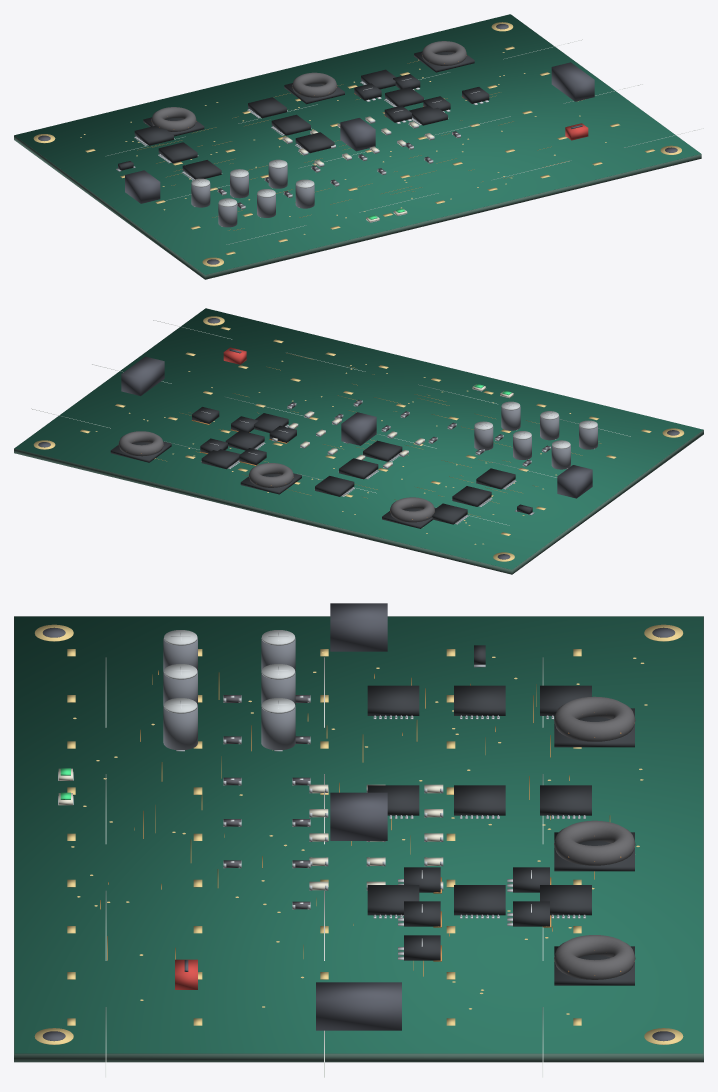
The model's file is L98_COMPLETE_BOARD_VISUAL_REFERENCE_ONLY.fbx.
The picture shows the model from 3 angles, top to bottom: view 1: azimuth 30°, elevation 25°; view 2: azimuth 150°, elevation 25°; view 3: azimuth 270°, elevation 25°; orthographic projection. The views are drawn at different scales.
Parts seen in each view (by area): view 1: Model::Part_583, Model::Part_582, Model::Part_554, Model::Part_536, Model::Part_545, Model::Part_367, Model::Part_389, Model::Part_345, Model::Part_105, Model::Part_140, Model::Part_245, Model::Part_035 (+9 smaller); view 2: Model::Part_583, Model::Part_582, Model::Part_554, Model::Part_545, Model::Part_536, Model::Part_345, Model::Part_389, Model::Part_367, Model::Part_105, Model::Part_000, Model::Part_245, Model::Part_140 (+7 smaller); view 3: Model::Part_583, Model::Part_582, Model::Part_554, Model::Part_367, Model::Part_345, Model::Part_389, Model::Part_536, Model::Part_545, Model::Part_000, Model::Part_105, Model::Part_140, Model::Part_245 (+19 smaller).
Part boxes in pixels (x1,y1,x2,y2): Model::Part_583: (15, 14, 700, 274); Model::Part_582: (14, 15, 701, 279); Model::Part_554: (551, 62, 594, 101); Model::Part_536: (125, 170, 160, 203); Model::Part_545: (340, 118, 375, 151); Model::Part_367: (292, 72, 337, 97); Model::Part_389: (421, 41, 466, 65); Model::Part_345: (151, 107, 196, 131); Model::Part_105: (158, 142, 197, 163); Model::Part_140: (271, 114, 310, 135); Model::Part_245: (248, 97, 286, 118); Model::Part_035: (295, 132, 334, 153); Model::Part_583: (14, 308, 703, 569); Model::Part_582: (14, 309, 703, 574); Model::Part_554: (121, 356, 164, 395); Model::Part_545: (341, 412, 376, 445); Model::Part_536: (557, 465, 592, 498); Model::Part_345: (390, 497, 434, 522); Model::Part_389: (118, 431, 163, 456); Model::Part_367: (248, 463, 293, 487); Model::Part_105: (452, 486, 491, 506); Model::Part_000: (476, 468, 515, 489); Model::Part_245: (315, 476, 354, 496); Model::Part_140: (339, 458, 378, 479); Model::Part_583: (14, 616, 703, 1053); Model::Part_582: (14, 616, 703, 1062); Model::Part_554: (316, 982, 401, 1030); Model::Part_367: (554, 820, 635, 865); Model::Part_345: (554, 696, 635, 741); Model::Part_389: (554, 935, 635, 979); Model::Part_536: (330, 603, 387, 651); Model::Part_545: (330, 792, 387, 840); Model::Part_000: (367, 685, 419, 715); Model::Part_105: (454, 685, 505, 715); Model::Part_140: (454, 785, 505, 815); Model::Part_245: (540, 785, 591, 815).
Size of the model in its own units: 19 by 0.937 by 12.
